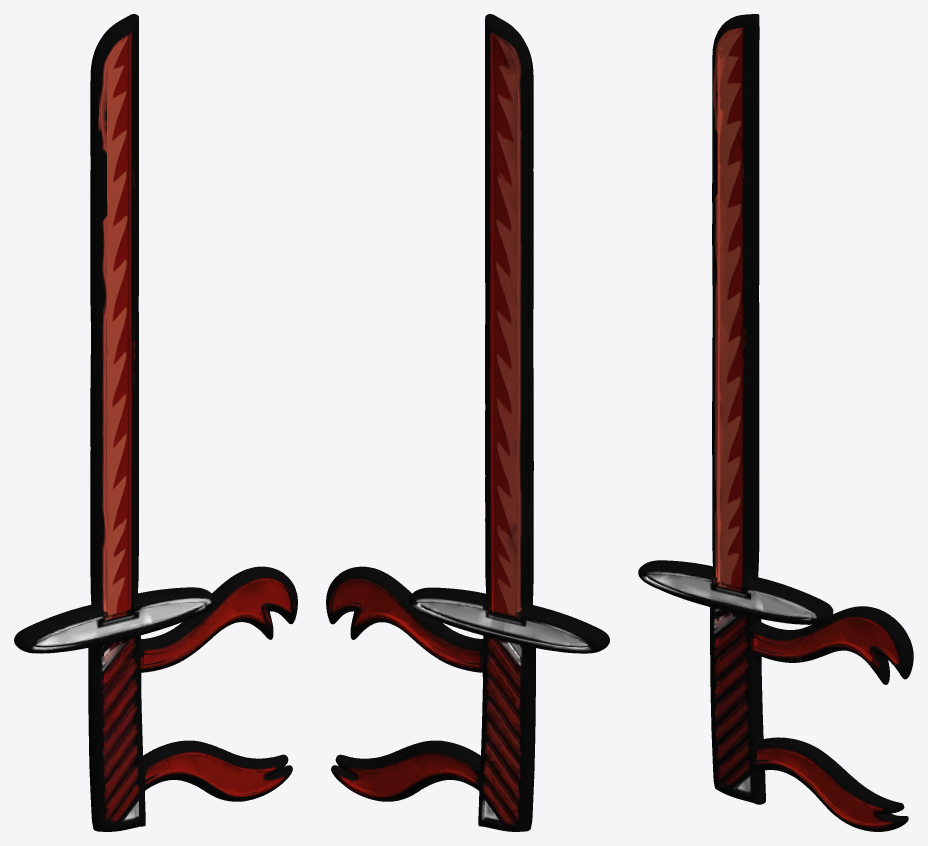
Rendered from sword_default.glb.
3 views of the same model, side by side, from view 1: azimuth 30°, elevation 25°; view 2: azimuth 150°, elevation 25°; view 3: azimuth 330°, elevation 25° (orthographic). The views are drawn at different scales.
Parts seen in each view (by area): view 1: node_0; view 2: node_0; view 3: node_0.
Part boxes in pixels (left/top/right/bottom): node_0: left=14, top=14, right=297, bottom=831; node_0: left=326, top=14, right=609, bottom=831; node_0: left=638, top=14, right=913, bottom=831.
Size of the model in its own units: 0.4188 by 1.16 by 0.0366.
Materials: 1 (1 with a texture image).
